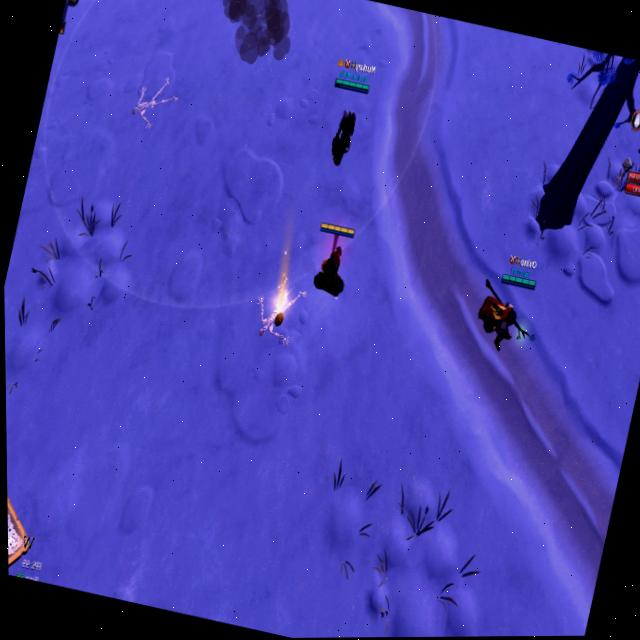red: (462, 244, 554, 368), (312, 47, 384, 178), (299, 218, 361, 305)
